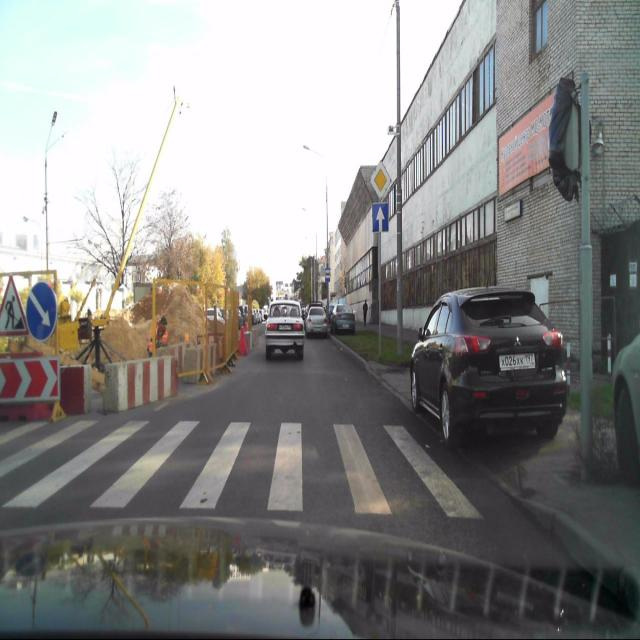object: (380, 238, 382, 357)
road sign: (1, 271, 28, 336), (369, 158, 392, 201), (372, 203, 390, 235)
